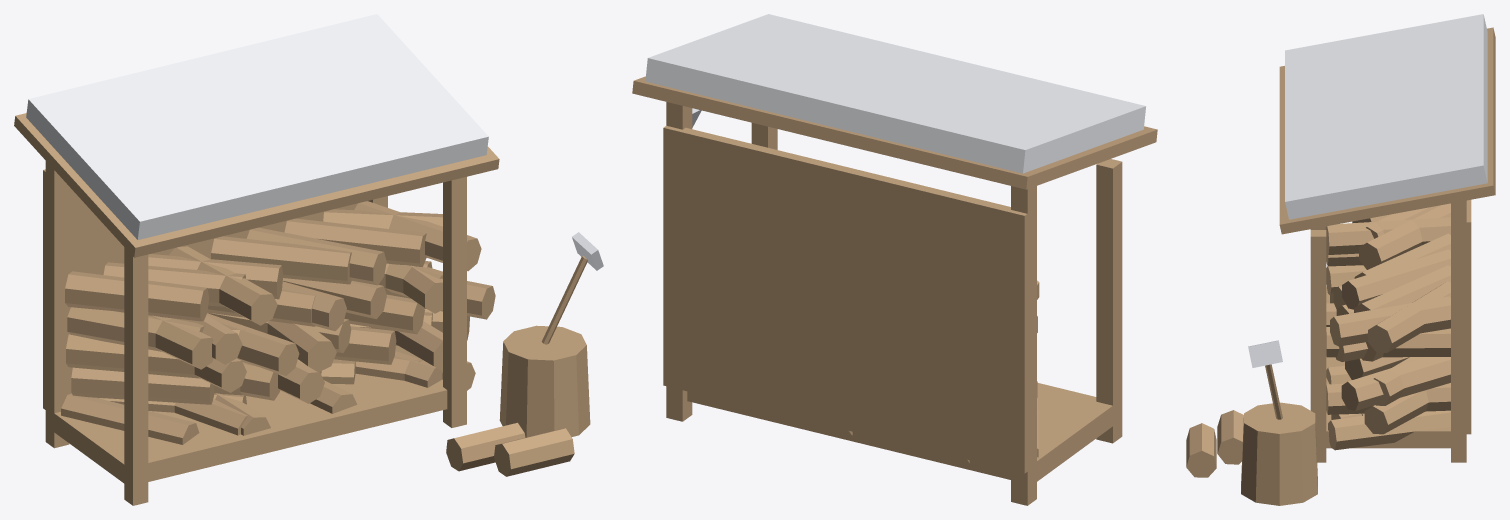
The model's file is backcountry-snowboarding-and-avalanche-safety-wood-sto-8a7502de__18955.glb.
3 views of the same model, side by side, from view 1: azimuth 30°, elevation 25°; view 2: azimuth 150°, elevation 25°; view 3: azimuth 270°, elevation 25° (orthographic). The views are drawn at different scales.
Parts seen in each view (by area): view 1: wood-store; view 2: wood-store; view 3: wood-store.
Boxes of the visible parts, x1,y1,x2,y2 form: wood-store: [14, 14, 603, 505]; wood-store: [632, 14, 1157, 505]; wood-store: [1186, 14, 1495, 505].
Size of the model in its own units: 2.99 by 2.13 by 1.98.
